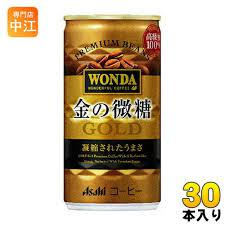beer: (60, 15, 164, 211)
